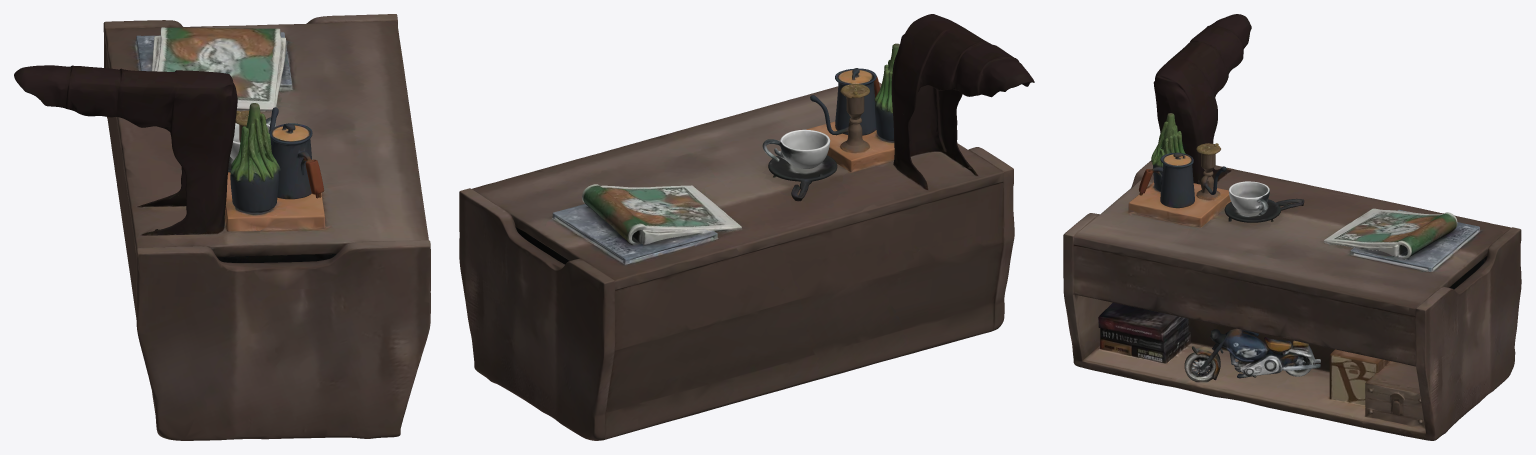
File: homedepot-com-p-furniture-of-america-anthem-41-in-reclaimed--056aa9.glb
The picture shows the model from 3 angles, left to right: view 1: azimuth 30°, elevation 25°; view 2: azimuth 150°, elevation 25°; view 3: azimuth 270°, elevation 25°; orthographic projection. The views are drawn at different scales.
Visible parts, largest first — view 1: tripo_node_a6f24dc0-35c1-4a79-b29d-61d9a5237b13; view 2: tripo_node_a6f24dc0-35c1-4a79-b29d-61d9a5237b13; view 3: tripo_node_a6f24dc0-35c1-4a79-b29d-61d9a5237b13.
Part boxes in pixels (left/top/right/bottom): tripo_node_a6f24dc0-35c1-4a79-b29d-61d9a5237b13: left=14, top=14, right=430, bottom=440; tripo_node_a6f24dc0-35c1-4a79-b29d-61d9a5237b13: left=459, top=14, right=1034, bottom=440; tripo_node_a6f24dc0-35c1-4a79-b29d-61d9a5237b13: left=1063, top=14, right=1521, bottom=440.
Bounding box in the file's own units: 1.07 × 0.7048 × 1.13.
Materials: 1 (1 with a texture image).
